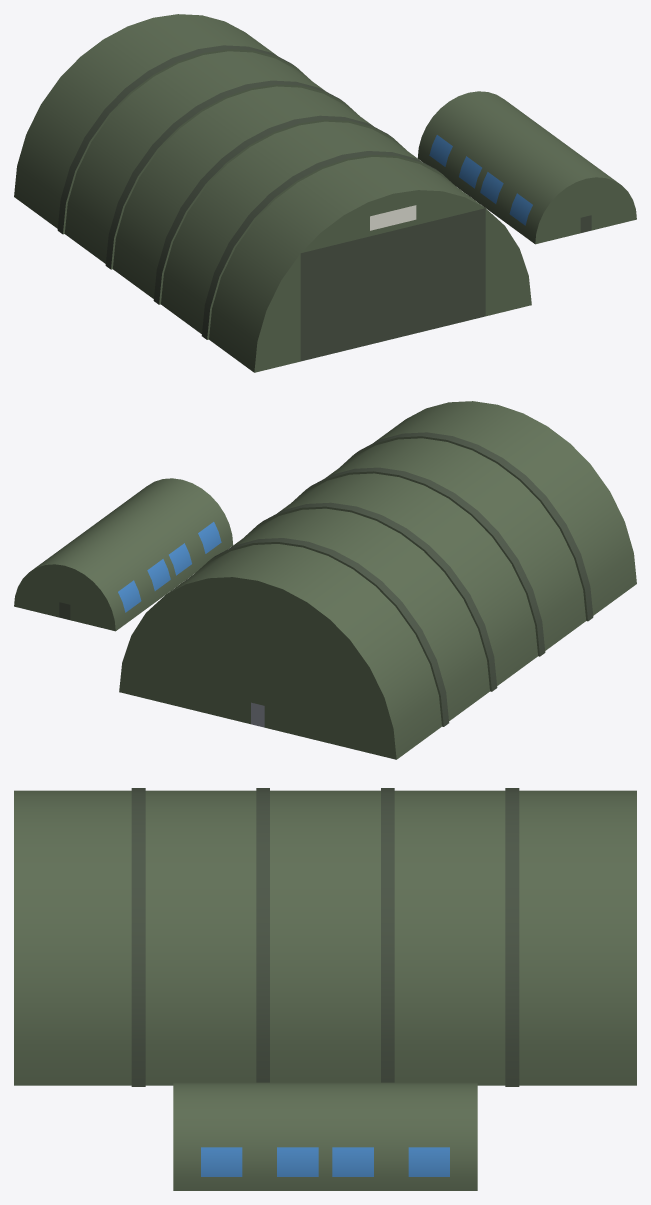
File: Kit_Hangar.glb
The picture shows the model from 3 angles, top to bottom: view 1: azimuth 30°, elevation 25°; view 2: azimuth 150°, elevation 25°; view 3: azimuth 270°, elevation 25°; orthographic projection. The views are drawn at different scales.
Parts seen in each view (by area): view 1: Kit_Hangar_Large, Kit_Hangar_Small; view 2: Kit_Hangar_Large, Kit_Hangar_Small; view 3: Kit_Hangar_Large, Kit_Hangar_Small.
Boxes of the visible parts, bbox=[...] form: Kit_Hangar_Large: bbox=[14, 14, 531, 372]; Kit_Hangar_Small: bbox=[417, 91, 636, 244]; Kit_Hangar_Large: bbox=[119, 401, 636, 759]; Kit_Hangar_Small: bbox=[14, 478, 233, 631]; Kit_Hangar_Large: bbox=[14, 788, 636, 1086]; Kit_Hangar_Small: bbox=[173, 1082, 477, 1190].
Bounding box in the file's own units: 96.4 × 30.4 × 90.
